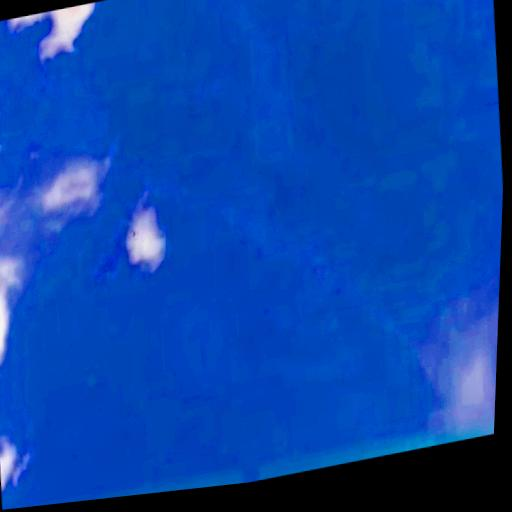drones: (127, 224, 142, 250)
